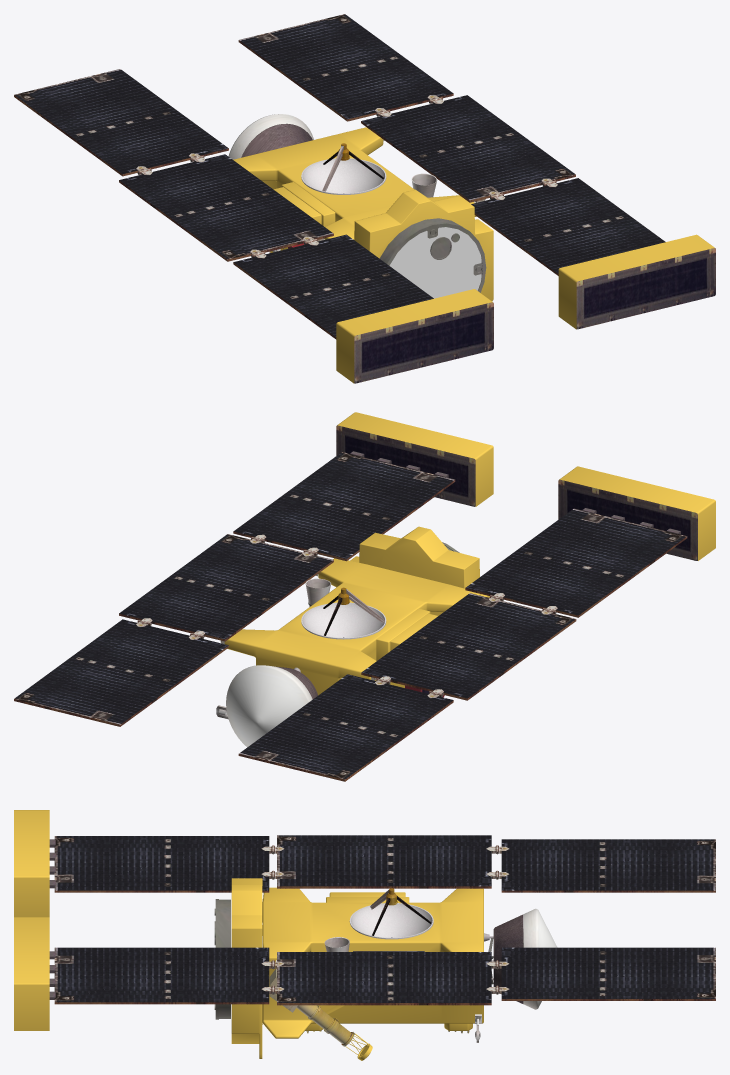
The model's file is stardust.glb.
The picture shows the model from 3 angles, top to bottom: view 1: azimuth 30°, elevation 25°; view 2: azimuth 150°, elevation 25°; view 3: azimuth 270°, elevation 25°; orthographic projection.
Parts seen in each view (by area): view 1: shiny_panels, BUS_gold_foil_Mesh.004, Stardust_tex_01, foil_silver, Stardust_tex_03, Stardust_tex_02, Stardust_tex_01_c, Stardust_capsule; view 2: shiny_panels, BUS_gold_foil_Mesh.004, Stardust_tex_01, Stardust_capsule, Stardust_tex_03; view 3: shiny_panels, BUS_gold_foil_Mesh.004, Stardust_tex_01, Stardust_tex_03, Stardust_tex_02, Stardust_tex_01_c, Stardust_capsule.
Boxes of the visible parts, box(x1,y1,x2,y2) form: shiny_panels: box(14, 14, 665, 336); BUS_gold_foil_Mesh.004: box(233, 127, 714, 383); Stardust_tex_01: box(14, 40, 715, 383); foil_silver: box(389, 227, 481, 298); Stardust_tex_03: box(301, 143, 386, 194); Stardust_tex_02: box(288, 218, 486, 292); Stardust_tex_01_c: box(241, 124, 312, 157); Stardust_capsule: box(228, 114, 313, 159); shiny_panels: box(14, 452, 686, 779); BUS_gold_foil_Mesh.004: box(224, 412, 715, 695); Stardust_tex_01: box(14, 425, 697, 781); Stardust_capsule: box(226, 665, 312, 747); Stardust_tex_03: box(301, 587, 386, 639); shiny_panels: box(54, 835, 715, 1002); BUS_gold_foil_Mesh.004: box(14, 810, 483, 1060); Stardust_tex_01: box(49, 839, 715, 1057); Stardust_tex_03: box(349, 888, 433, 939); Stardust_tex_02: box(214, 899, 493, 1046); Stardust_tex_01_c: box(493, 914, 523, 1003); Stardust_capsule: box(523, 908, 557, 1009).
Bounding box in the file's own units: 2.94 × 1.17 × 5.01.
7 materials, 4 textured.
